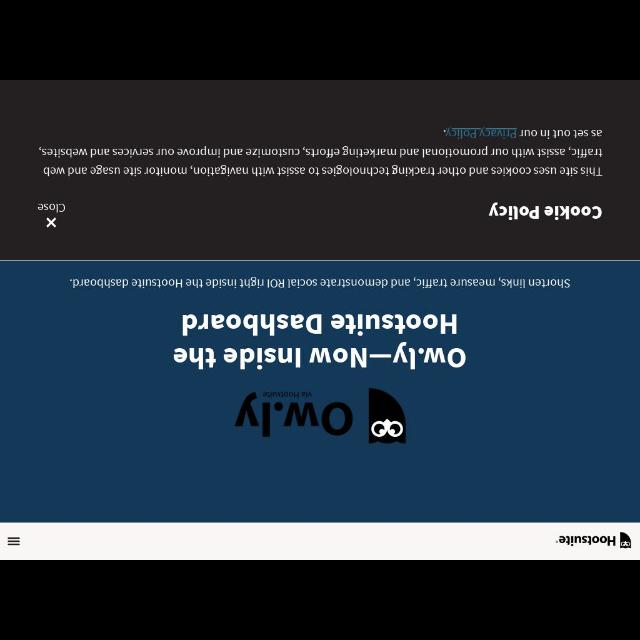icon: (4, 534, 23, 550), (44, 216, 58, 230)
image: (356, 383, 419, 451), (556, 530, 634, 552)
text: (36, 129, 602, 177), (182, 309, 460, 336), (231, 386, 353, 446), (172, 346, 470, 368), (73, 278, 572, 290), (482, 202, 604, 218), (39, 203, 65, 211)
textbutton: (440, 126, 516, 140)
toolbar: (1, 522, 638, 560)
